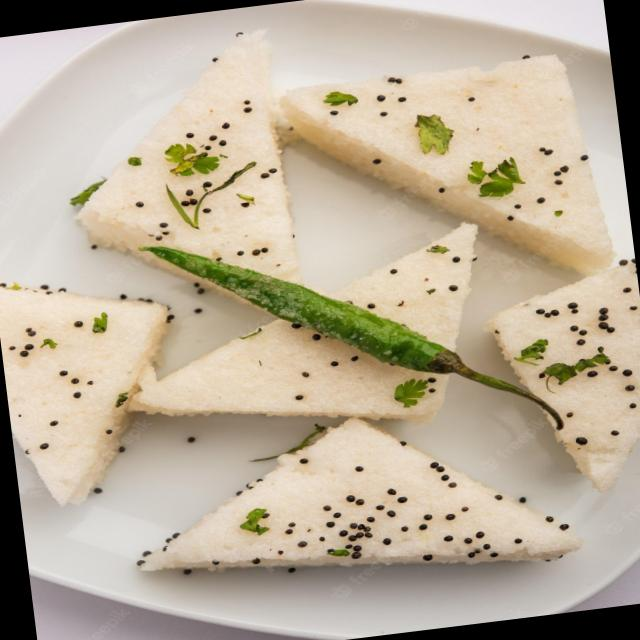dhokla: (0, 32, 640, 633)
